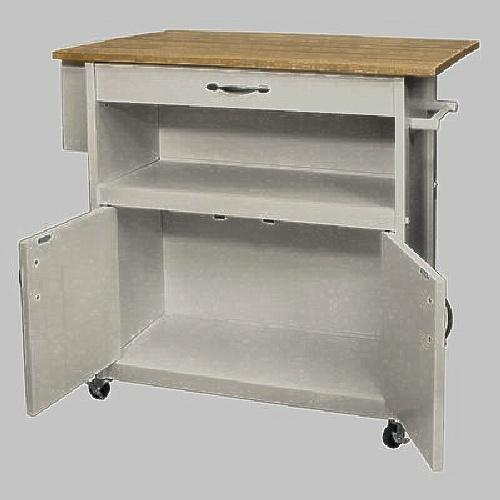cabinet: (29, 24, 474, 469)
